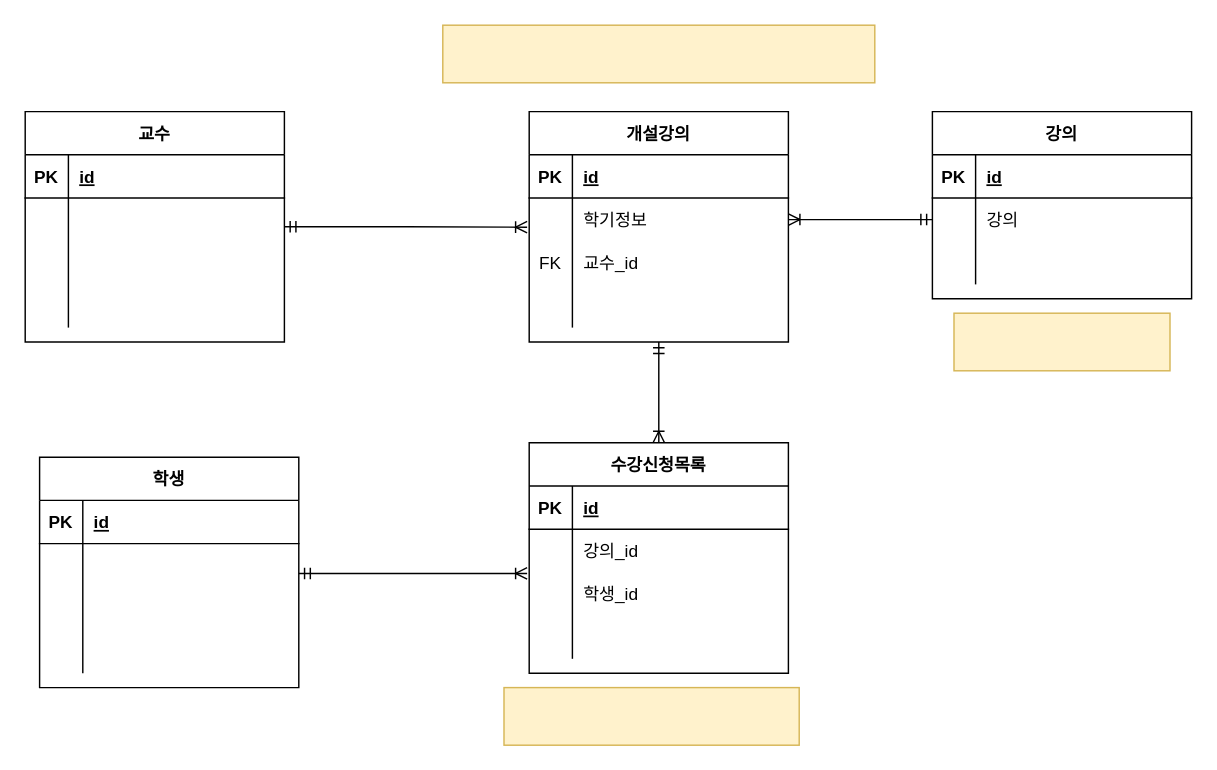
The diagram is 1217 pixels wide and 770 high, and some of its shapes have lost their labels. Each missing label, with the centre of its shape:
"교수가 강의를 실제로 개설 2022 봄학기 마케팅원론, 2022 가을학기 마케팅원론" belongs at pixel 658 53.
"마케팅 원론 (경영학과 필수 교과목)" belongs at pixel 1061 341.
"수강신청 개설된 강의와 학생 정보" belongs at pixel 651 715.
